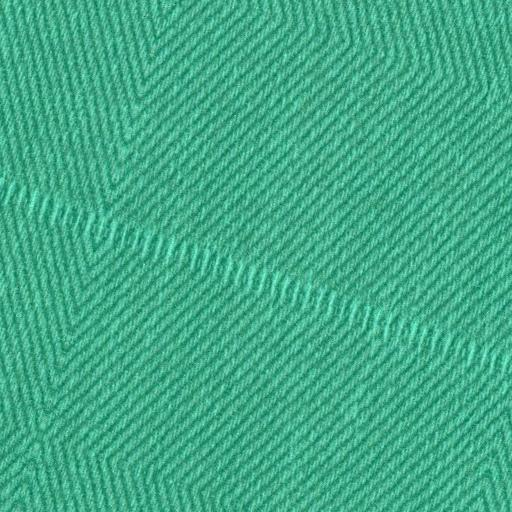slub: (0, 171, 512, 383)
